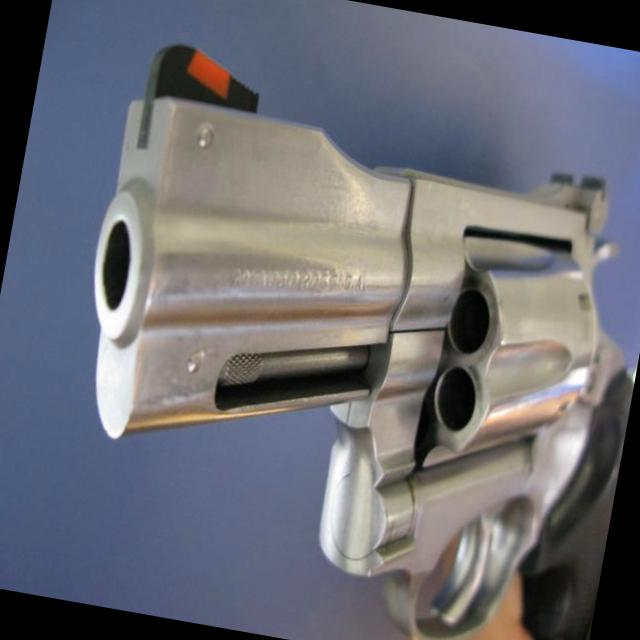Gun: (95, 47, 634, 640)
